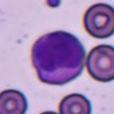M: (31, 30, 84, 85)
